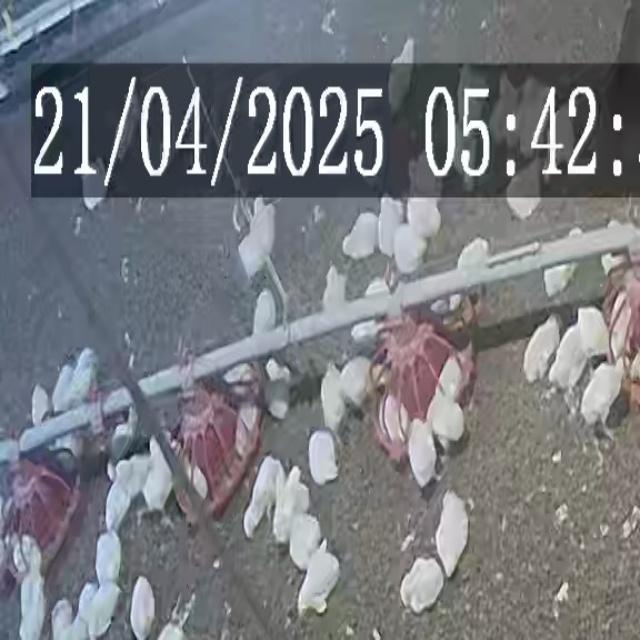chicken: (161, 433, 207, 509), (577, 361, 623, 434), (448, 237, 491, 314), (434, 488, 471, 577), (242, 457, 282, 539), (546, 316, 590, 390), (237, 197, 277, 278), (296, 546, 341, 616), (348, 276, 390, 344), (539, 98, 576, 173), (545, 226, 584, 297), (142, 438, 177, 515), (274, 466, 308, 545), (398, 557, 445, 614), (17, 554, 48, 638), (522, 316, 560, 383), (506, 148, 540, 222), (388, 34, 417, 118), (105, 457, 136, 530), (319, 364, 347, 436), (407, 421, 437, 488), (428, 392, 466, 444), (288, 513, 323, 569), (391, 222, 428, 274), (89, 577, 120, 639), (575, 304, 609, 360), (341, 210, 379, 260), (308, 428, 340, 486), (109, 412, 141, 469), (338, 357, 372, 409), (265, 356, 292, 420), (377, 197, 404, 258), (130, 576, 156, 638), (74, 347, 96, 420), (95, 530, 124, 584), (81, 149, 107, 209), (53, 362, 76, 427), (406, 198, 442, 238), (435, 354, 464, 403), (381, 392, 405, 450), (28, 381, 51, 439), (322, 265, 349, 313), (252, 288, 278, 334), (12, 535, 38, 577), (50, 599, 75, 640), (614, 354, 628, 386)
